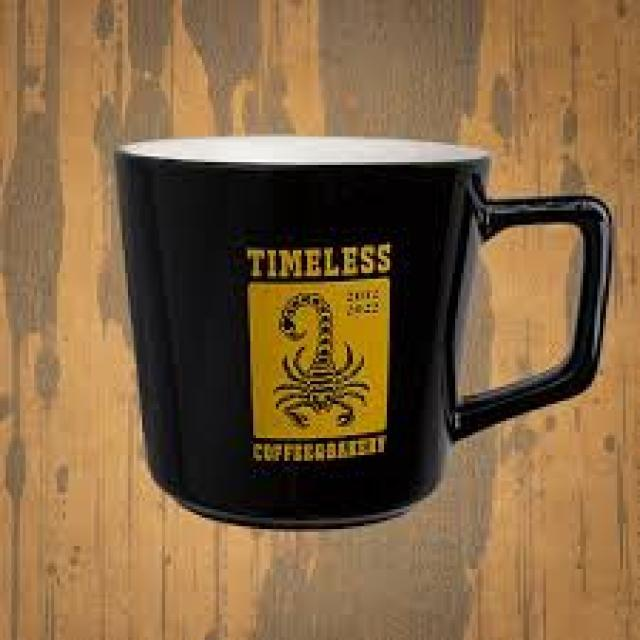taza: (116, 135, 614, 533)
